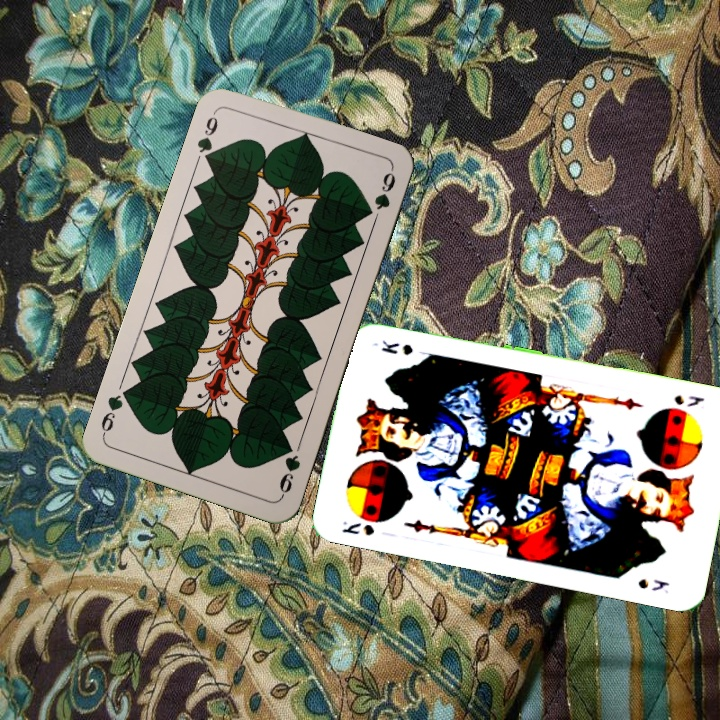G9: (275, 439, 303, 500), (193, 106, 221, 167)
SK: (338, 517, 377, 538), (670, 391, 707, 410)
